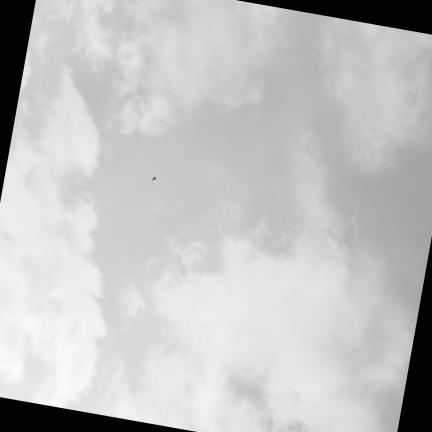Shahed: (152, 177, 155, 180)
